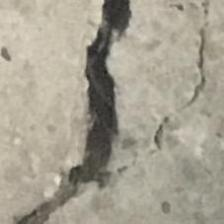Crack: (22, 0, 224, 224)
